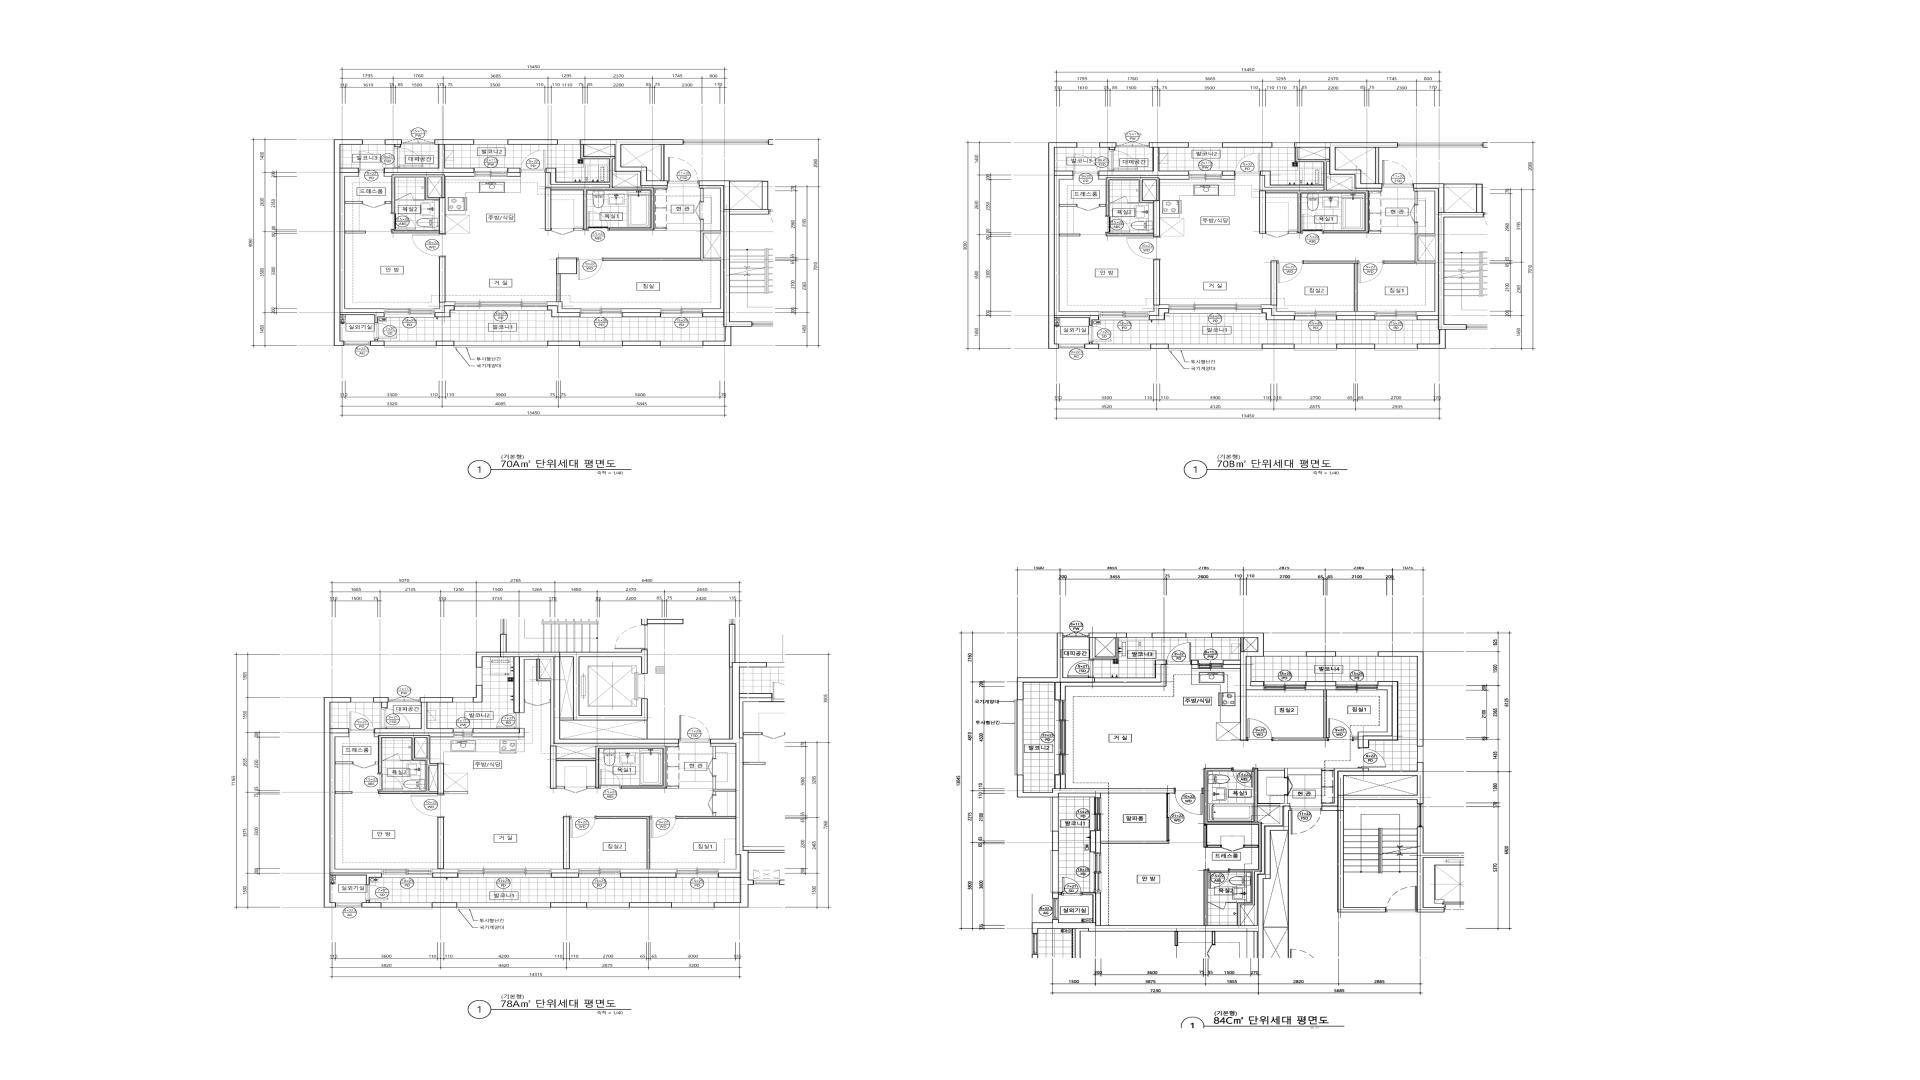door: (1382, 160, 1414, 187), (1291, 807, 1321, 835), (679, 715, 711, 741), (667, 157, 699, 183), (615, 625, 647, 650), (410, 794, 444, 818), (1126, 236, 1160, 260), (1174, 789, 1204, 815), (413, 233, 446, 257), (1109, 150, 1138, 171), (650, 816, 676, 839), (1246, 719, 1273, 741), (1328, 719, 1354, 741), (1234, 153, 1261, 175), (520, 150, 546, 173), (381, 708, 410, 728), (394, 148, 423, 167), (1166, 642, 1191, 665), (1358, 261, 1383, 284), (348, 712, 375, 733), (570, 816, 596, 837), (1278, 261, 1304, 282), (576, 258, 603, 280), (1358, 748, 1386, 767), (359, 152, 384, 173), (1073, 154, 1098, 175), (1067, 659, 1095, 678), (599, 769, 621, 789), (1207, 869, 1229, 889), (1302, 214, 1324, 233), (587, 211, 609, 231), (1233, 767, 1254, 787), (378, 774, 402, 791), (1106, 216, 1130, 233), (1062, 877, 1083, 895), (392, 214, 415, 229), (1089, 326, 1112, 342), (375, 323, 397, 339), (496, 713, 520, 728), (367, 885, 388, 901), (1208, 902, 1237, 910), (1166, 794, 1170, 841), (695, 200, 704, 220), (525, 699, 550, 705), (352, 762, 376, 769), (1284, 777, 1292, 796), (564, 786, 587, 793), (1221, 845, 1244, 852), (1077, 204, 1100, 211), (1266, 231, 1288, 237), (551, 228, 574, 235), (363, 202, 385, 208), (708, 758, 716, 777), (1410, 204, 1418, 223), (382, 753, 400, 761), (708, 795, 716, 812), (396, 193, 413, 200), (1110, 196, 1127, 203)
wall: (1031, 806, 1290, 959), (676, 624, 749, 907), (476, 650, 679, 744), (1321, 762, 1424, 913), (520, 657, 679, 746), (1204, 767, 1290, 926), (1259, 142, 1398, 233), (323, 698, 381, 907), (1414, 183, 1484, 349), (699, 181, 769, 345), (1048, 142, 1098, 349), (334, 140, 384, 345), (1017, 633, 1166, 700), (545, 145, 654, 231), (330, 733, 381, 873), (1055, 175, 1098, 315), (340, 173, 384, 313), (1212, 633, 1265, 741), (550, 746, 666, 789), (603, 220, 720, 261), (580, 140, 683, 186), (1378, 651, 1424, 746), (1418, 827, 1464, 913), (378, 736, 443, 794), (1017, 775, 1174, 798), (699, 186, 724, 313), (1106, 178, 1160, 236), (1414, 189, 1437, 315), (384, 140, 475, 173), (1098, 142, 1188, 175), (596, 816, 650, 869), (1273, 690, 1328, 741), (375, 698, 454, 733), (1303, 261, 1358, 311), (1358, 682, 1398, 748), (1263, 831, 1288, 927), (392, 174, 444, 214), (1321, 767, 1364, 806), (1327, 162, 1382, 191), (613, 160, 667, 187), (1344, 775, 1418, 795), (1259, 175, 1324, 191), (1089, 638, 1118, 659), (472, 728, 525, 737), (1257, 806, 1280, 824), (1419, 236, 1436, 261), (717, 855, 740, 873), (713, 777, 736, 795), (1262, 309, 1295, 320), (709, 744, 736, 758), (384, 173, 475, 177), (1098, 175, 1188, 179), (563, 816, 570, 869), (1262, 305, 1295, 315), (547, 306, 580, 316), (547, 302, 580, 313), (438, 818, 444, 869), (556, 257, 576, 274), (375, 733, 454, 737), (537, 659, 551, 680), (1154, 260, 1160, 306), (620, 873, 676, 878), (1271, 261, 1278, 306), (439, 257, 446, 302), (1142, 181, 1156, 200), (641, 618, 683, 625), (508, 140, 558, 145), (1222, 142, 1273, 148), (472, 728, 520, 733), (1089, 831, 1101, 852), (1305, 682, 1336, 690), (439, 198, 446, 233), (1149, 309, 1168, 320), (620, 869, 676, 873), (1204, 869, 1208, 926), (629, 902, 671, 907), (1336, 315, 1375, 320), (1149, 305, 1168, 315), (435, 306, 455, 316), (435, 302, 455, 313), (1337, 344, 1375, 349), (1089, 633, 1126, 638), (551, 902, 587, 907), (392, 229, 439, 233), (729, 667, 732, 738), (472, 686, 483, 703), (1101, 841, 1170, 844), (1153, 633, 1187, 638), (1262, 344, 1294, 349), (373, 698, 389, 708), (1305, 651, 1336, 657), (1336, 311, 1375, 315), (622, 309, 661, 313), (622, 342, 661, 345), (622, 313, 661, 316), (551, 873, 579, 878), (1375, 148, 1379, 183), (661, 145, 665, 181), (385, 140, 402, 148), (1100, 142, 1117, 150), (433, 873, 458, 878), (361, 901, 381, 907), (1052, 831, 1059, 851), (433, 902, 456, 907), (547, 342, 579, 345), (1084, 342, 1098, 349), (551, 869, 579, 873), (508, 167, 520, 177), (556, 274, 560, 302), (433, 869, 458, 873), (1151, 344, 1168, 349), (371, 339, 384, 345), (1383, 261, 1415, 264), (436, 342, 454, 345), (443, 791, 468, 794), (1191, 661, 1199, 669), (345, 231, 365, 233), (700, 189, 704, 202), (1222, 175, 1234, 179), (1222, 171, 1234, 175), (345, 202, 363, 204), (1444, 183, 1477, 185), (731, 181, 762, 182), (666, 786, 679, 789), (560, 717, 574, 720), (1052, 893, 1059, 898), (1241, 638, 1244, 651), (1369, 231, 1381, 233), (654, 228, 666, 231), (574, 228, 584, 231), (1288, 231, 1298, 233), (587, 786, 596, 789), (556, 786, 564, 789), (1100, 204, 1106, 207), (385, 202, 392, 204), (413, 199, 425, 200), (400, 760, 411, 761), (713, 812, 716, 816), (376, 762, 378, 765), (1059, 893, 1062, 895), (1353, 738, 1358, 740), (1127, 203, 1139, 203)
window: (458, 869, 551, 878), (1168, 305, 1262, 314), (1055, 700, 1065, 775), (455, 302, 547, 310), (456, 903, 551, 910), (1168, 344, 1262, 351), (454, 342, 547, 348), (1015, 700, 1023, 775), (1089, 852, 1101, 893), (381, 869, 433, 878), (384, 309, 435, 318), (1098, 311, 1149, 320), (1089, 798, 1101, 831), (676, 869, 719, 878), (1375, 311, 1418, 320), (1295, 311, 1337, 320), (661, 309, 703, 318), (580, 309, 622, 318), (1050, 851, 1059, 893), (579, 869, 620, 878), (1098, 344, 1151, 351), (384, 342, 436, 348), (671, 902, 715, 910), (381, 903, 433, 910), (587, 902, 629, 910), (1263, 682, 1305, 690), (1336, 682, 1378, 690), (475, 167, 508, 177), (1050, 798, 1059, 831), (1294, 344, 1337, 351), (1374, 344, 1418, 351), (579, 342, 622, 348), (661, 342, 703, 348), (1188, 171, 1222, 179), (1199, 659, 1224, 669), (1263, 651, 1305, 657), (1336, 651, 1378, 657), (388, 696, 419, 703), (1117, 141, 1149, 148), (402, 138, 434, 145), (1188, 142, 1222, 148), (473, 140, 508, 145), (1063, 632, 1089, 638), (454, 728, 472, 737), (1418, 804, 1424, 827), (335, 902, 361, 907), (1126, 633, 1153, 638), (1052, 898, 1059, 919), (1059, 344, 1084, 349), (1187, 633, 1212, 638), (476, 667, 483, 686), (351, 698, 373, 703), (1077, 142, 1100, 148), (1273, 142, 1295, 148), (363, 140, 385, 145), (558, 140, 580, 145), (452, 698, 472, 703), (344, 342, 371, 345), (1418, 746, 1424, 762)
